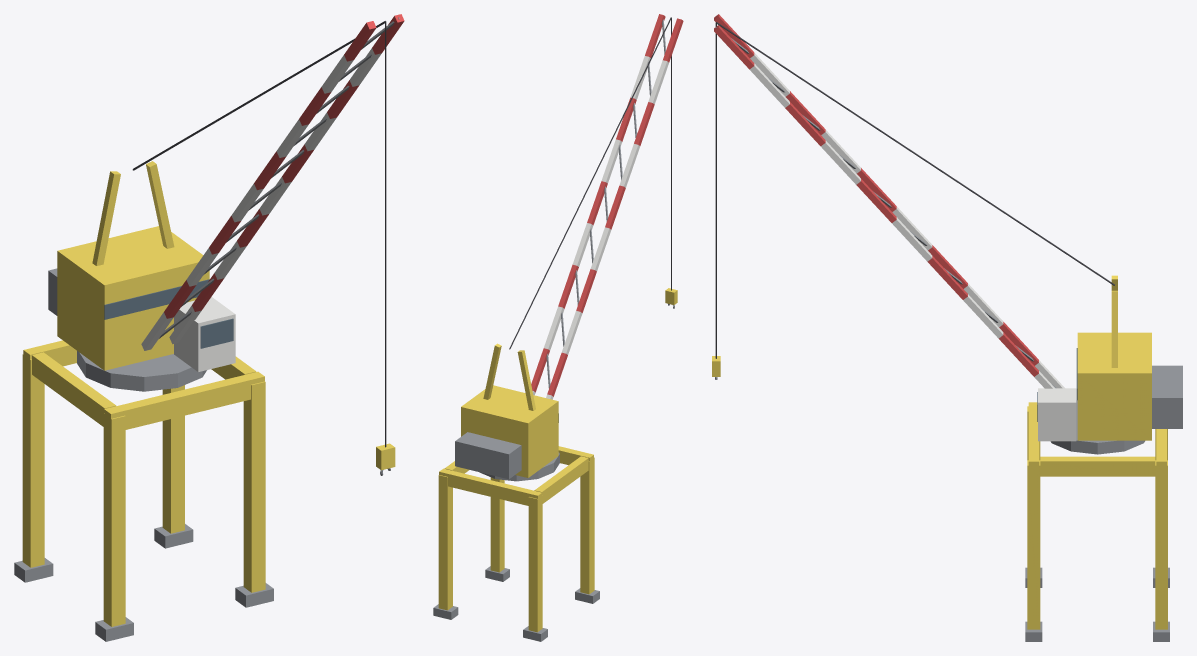
The model's file is CR_Grua.fbx.
The picture shows the model from 3 angles, left to right: view 1: azimuth 30°, elevation 25°; view 2: azimuth 150°, elevation 25°; view 3: azimuth 270°, elevation 25°; orthographic projection. The views are drawn at different scales.
Parts seen in each view (by area): view 1: CR_Grua; view 2: CR_Grua; view 3: CR_Grua.
Part boxes in pixels (x1,y1,x2,y2): CR_Grua: [14, 14, 404, 641]; CR_Grua: [433, 14, 683, 641]; CR_Grua: [712, 14, 1182, 641].
Size of the model in its own units: 7.2 by 30.51 by 22.11.
